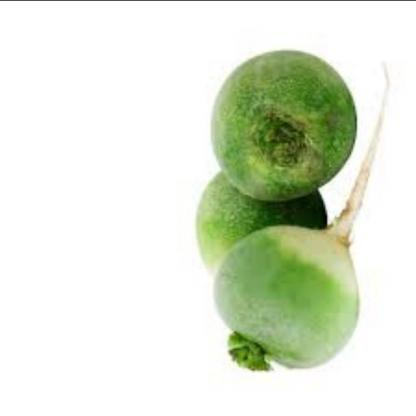redka: (206, 43, 361, 204), (209, 222, 362, 373), (191, 169, 326, 283)
